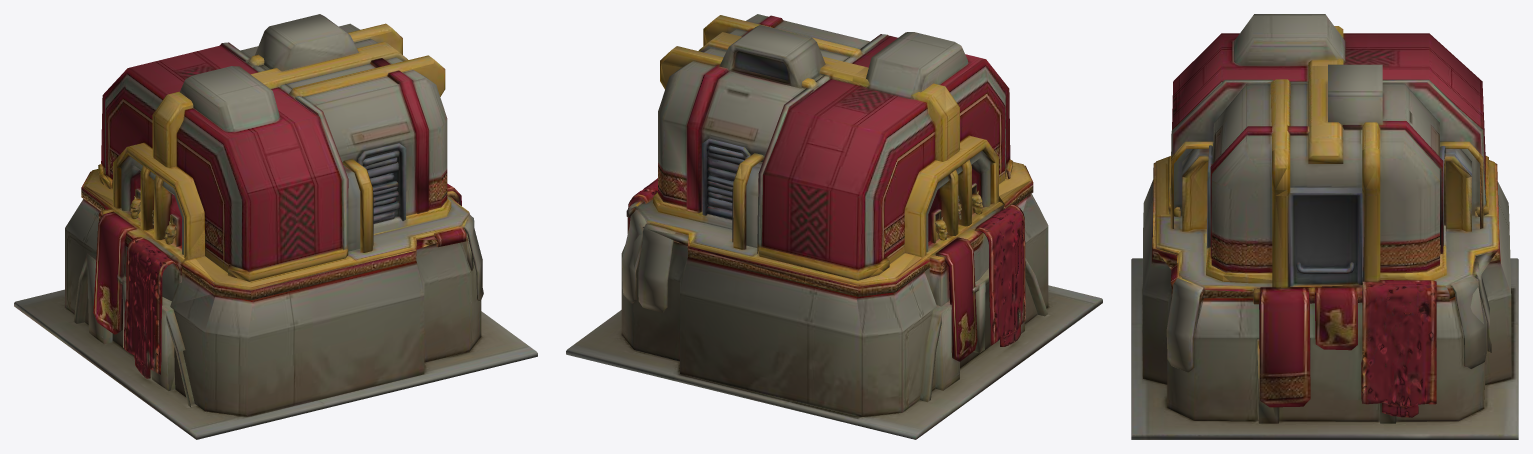
Rendered from salween_hydro.glb.
The picture shows the model from 3 angles, left to right: view 1: azimuth 30°, elevation 25°; view 2: azimuth 150°, elevation 25°; view 3: azimuth 270°, elevation 25°; orthographic projection. The views are drawn at different scales.
Parts seen in each view (by area): view 1: Body, Trim; view 2: Body, Trim; view 3: Body, Trim.
Boxes of the visible parts, x1,y1,x2,y2 form: Body: (14,14,537,439); Trim: (81,27,464,390); Body: (566,14,1102,439); Trim: (635,19,1033,320); Body: (1131,14,1518,439); Trim: (1152,26,1499,423).
Size of the model in its own units: 9.23 by 7.32 by 8.54.
2 materials, 2 textured.
